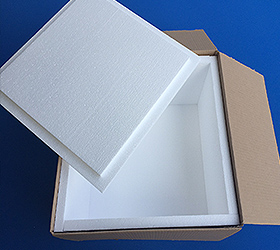Boxes: (0, 0, 239, 232)
